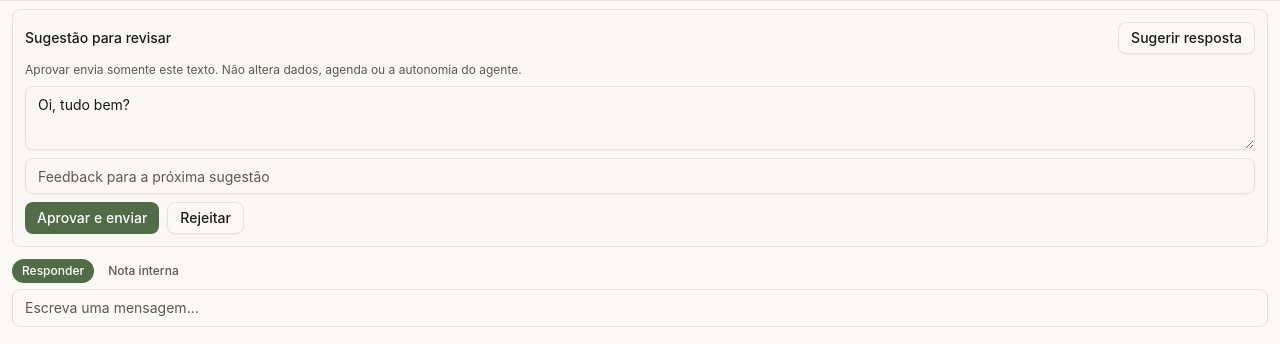
Test: a faixa da assistência só existe com rascunho (issue #3027) › ⭐ a confirmação da rejeição sobrevive ao bloco que sai (toast)
Expected: the text "Sugestão para revisar" is shown, x1=25 y1=28 x2=171 y2=48
Click the button "Rejeitar" at x=206, y=218, box x1=167 y1=202 x2=244 y2=234
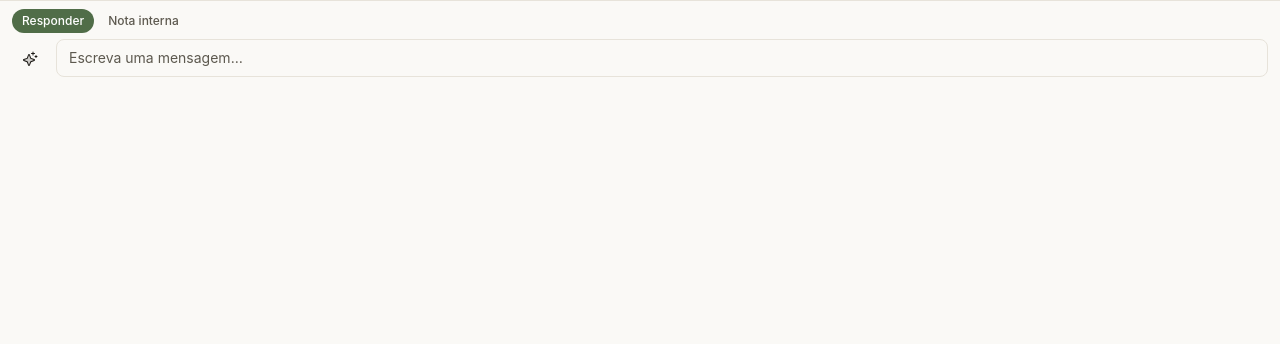
Expected: the button named "Sugerir resposta" is shown, x1=12 y1=41 x2=48 y2=77
